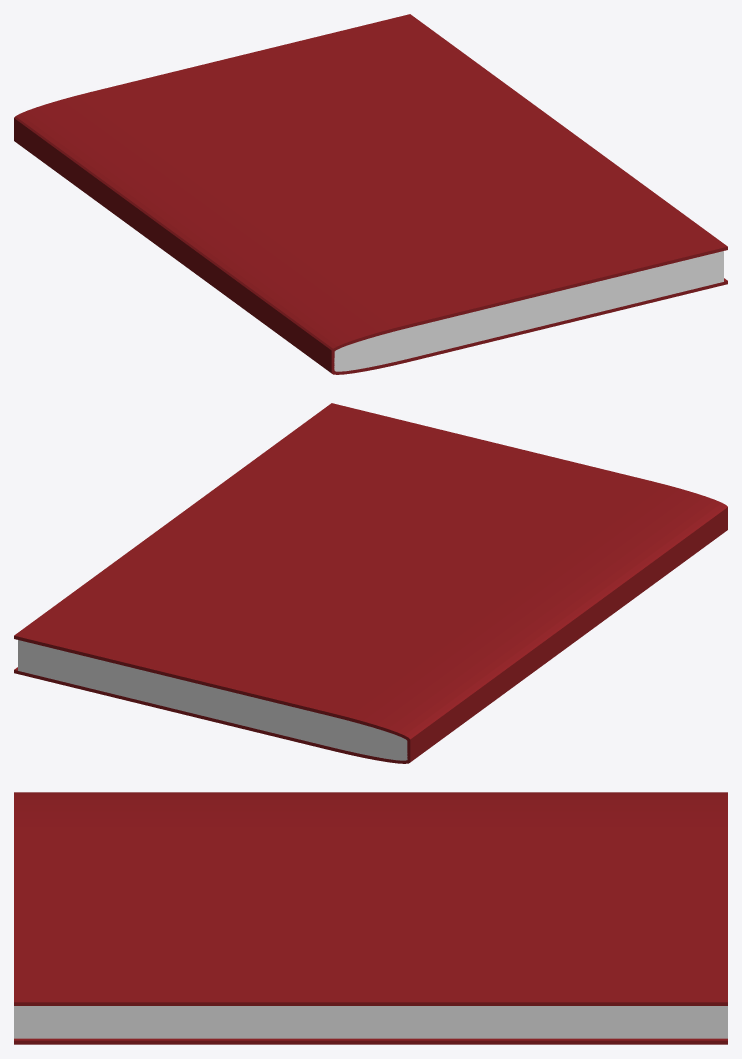
File: Book1.fbx
3 views of the same model, one above another, from view 1: azimuth 30°, elevation 25°; view 2: azimuth 150°, elevation 25°; view 3: azimuth 270°, elevation 25° (orthographic). The views are drawn at different scales.
Visible parts, largest first — view 1: BookBody, Inside; view 2: BookBody, Inside; view 3: BookBody, Inside.
Boxes of the visible parts, x1,y1,x2,y2 form: BookBody: [14, 14, 727, 374]; Inside: [334, 251, 723, 371]; BookBody: [14, 403, 727, 763]; Inside: [18, 640, 407, 760]; BookBody: [14, 792, 727, 1044]; Inside: [14, 1006, 727, 1038].
Size of the model in its own units: 144 by 13.03 by 200.
